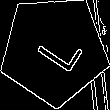L_NW: (25, 24, 83, 77)
